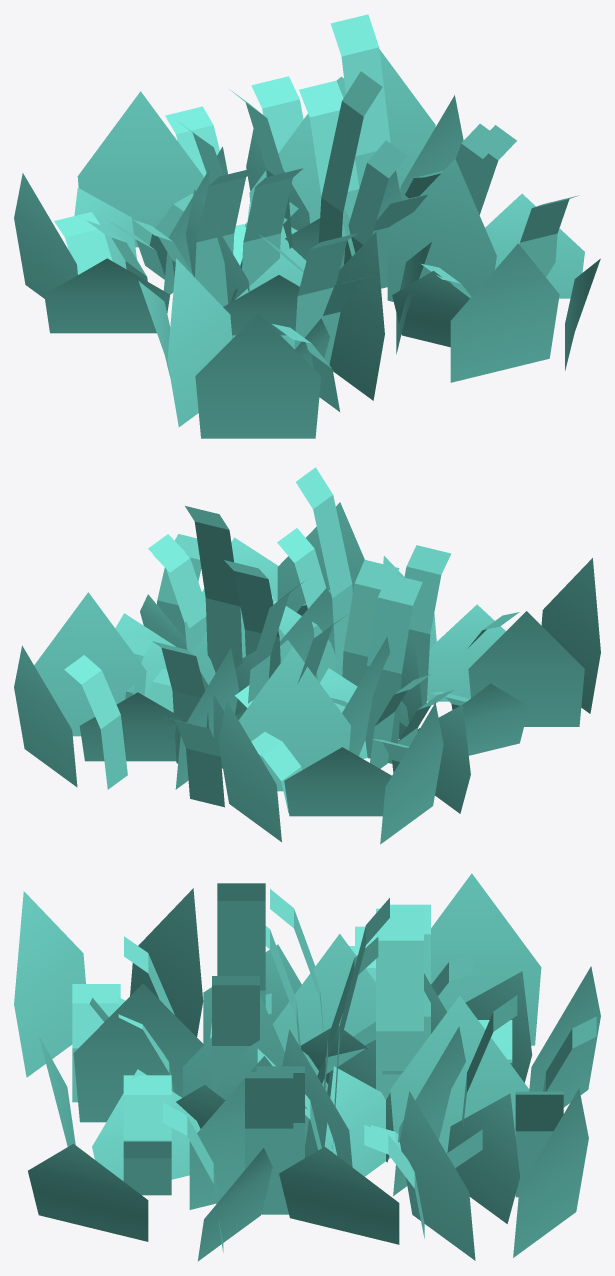
Rendered from grass.glb.
3 views of the same model, one above another, from view 1: azimuth 30°, elevation 25°; view 2: azimuth 150°, elevation 25°; view 3: azimuth 270°, elevation 25° (orthographic). The views are drawn at different scales.
Visible parts, largest first — view 1: grass_leafsLarge, grass_large, grass, grass_leafs; view 2: grass_leafsLarge, grass_large, grass, grass_leafs; view 3: grass_leafsLarge, grass_large, grass, grass_leafs.
Part boxes in pixels (x1,y1,x2,y2): grass_leafsLarge: (14,49,600,438); grass_large: (54,14,578,411); grass: (86,71,516,349); grass_leafs: (185,114,431,354); grass_leafsLarge: (14,502,600,844); grass_large: (64,506,519,812); grass: (146,467,454,807); grass_leafs: (176,606,422,768); grass_leafsLarge: (14,873,600,1261); grass_large: (72,898,563,1252); grass: (124,883,596,1214); grass_leafs: (176,934,465,1195).
Size of the model in its own units: 0.4759 by 0.254 by 0.4873.
